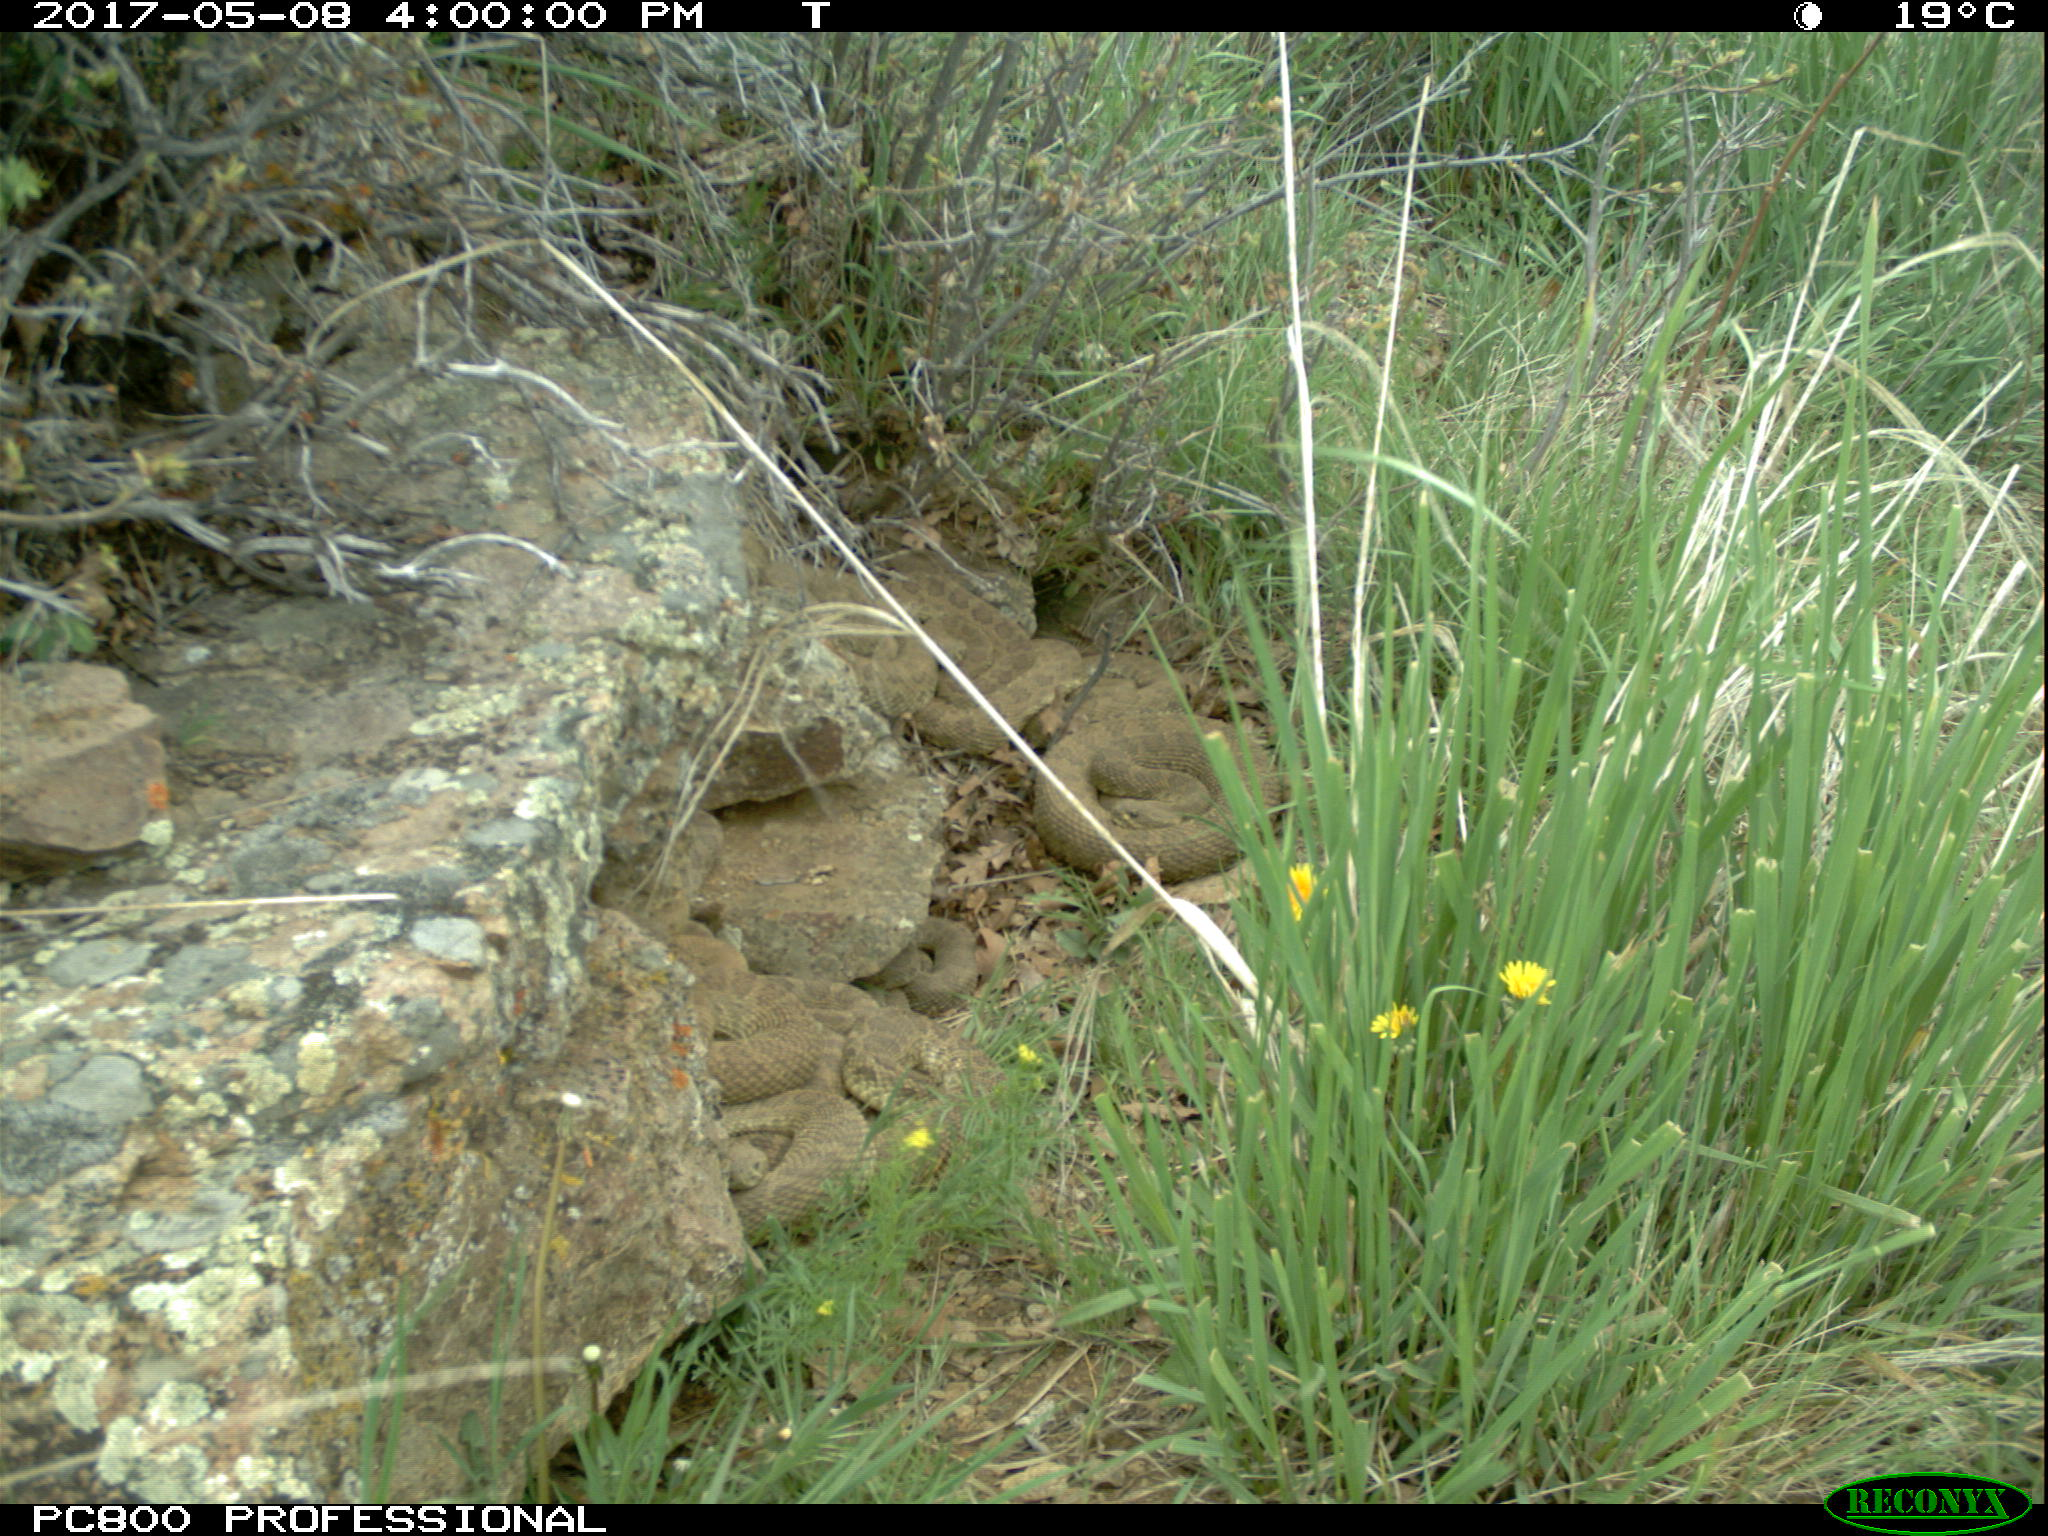snake: (803, 563, 1077, 747), (1034, 708, 1264, 876), (701, 1081, 884, 1239), (676, 947, 855, 1099), (855, 1008, 1013, 1112), (1013, 650, 1197, 739), (885, 913, 984, 1008)
